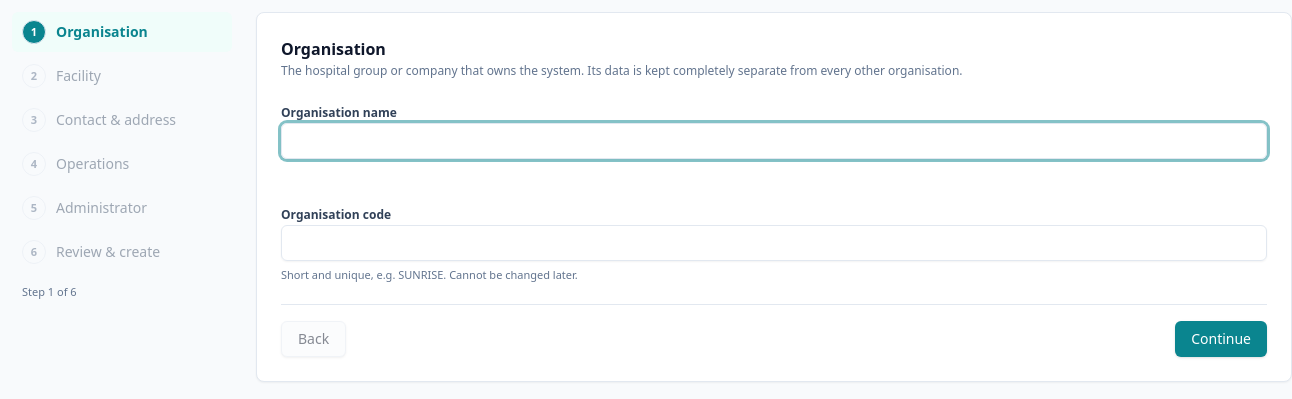
Scenario: TenantSetupWizard › will not advance when the code is already taken
Type "Green Valley Hospital" into the field labelled "Organisation name". click: (774, 141)
box: [281, 123, 1267, 159]
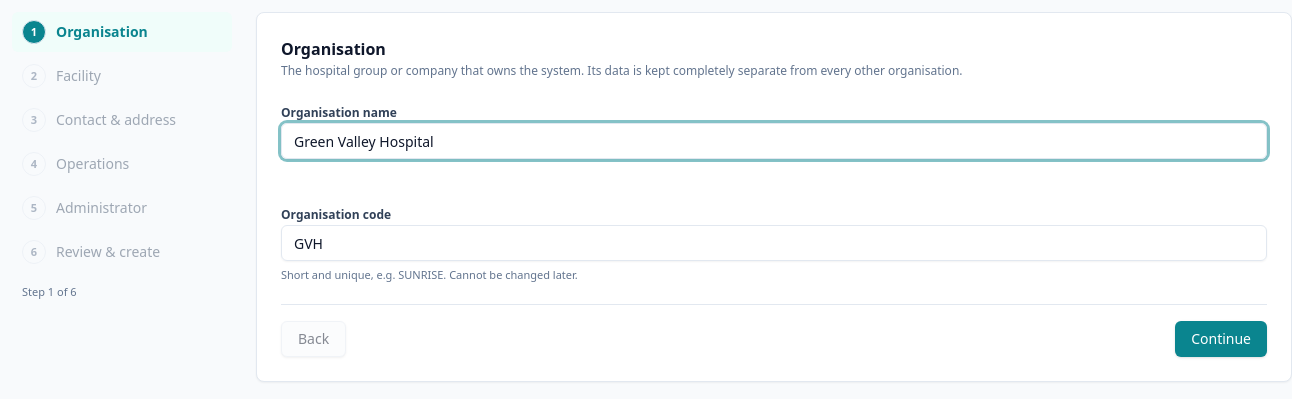
Click the button "Continue". click: (1221, 338)
box: [1175, 320, 1267, 356]
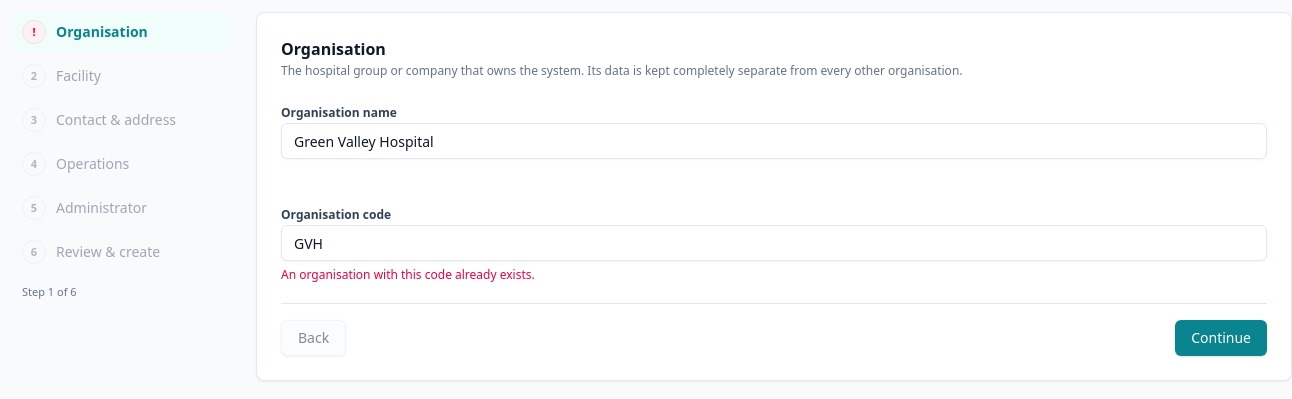
Expected: the heading "Organisation" is shown, [281, 38, 386, 60]
Now the text "An organisation with this code already exists." is shown, box [281, 266, 535, 283]
